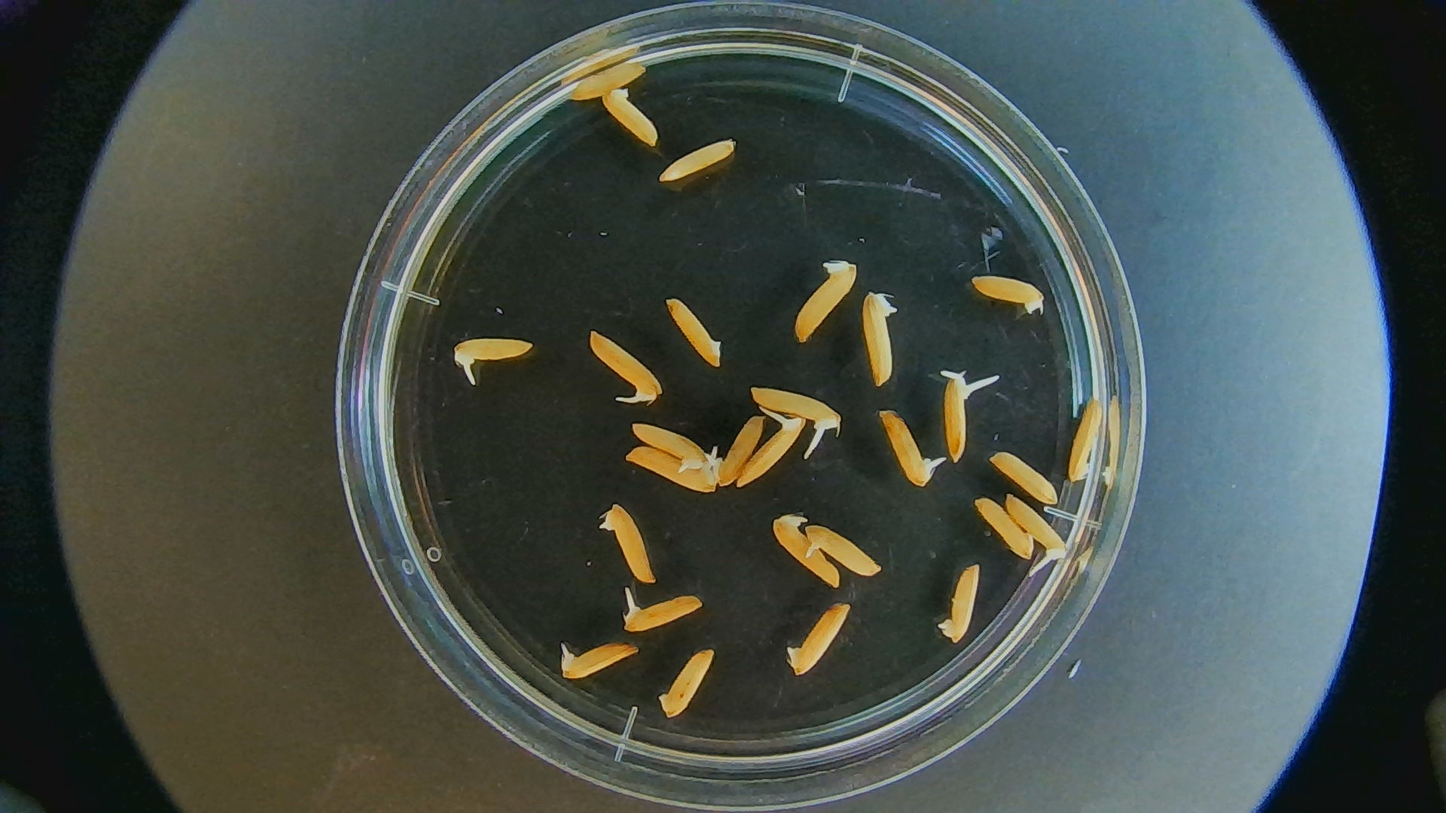no: (1002, 489, 1069, 580), (792, 257, 858, 343), (786, 595, 851, 678), (969, 489, 1036, 560), (602, 504, 660, 583), (658, 641, 716, 720), (984, 446, 1060, 505), (932, 559, 982, 648), (662, 297, 725, 367), (654, 136, 740, 184), (599, 86, 664, 148), (1065, 396, 1105, 486), (566, 58, 648, 99), (860, 290, 895, 386), (970, 271, 1046, 315)
yes: (770, 513, 845, 587), (620, 448, 717, 502), (737, 414, 805, 488), (590, 330, 660, 400), (803, 522, 883, 577), (752, 384, 840, 433), (880, 410, 934, 489), (630, 423, 709, 476), (557, 638, 643, 683), (711, 414, 761, 486), (621, 589, 700, 632), (939, 372, 972, 461), (450, 335, 534, 368)
